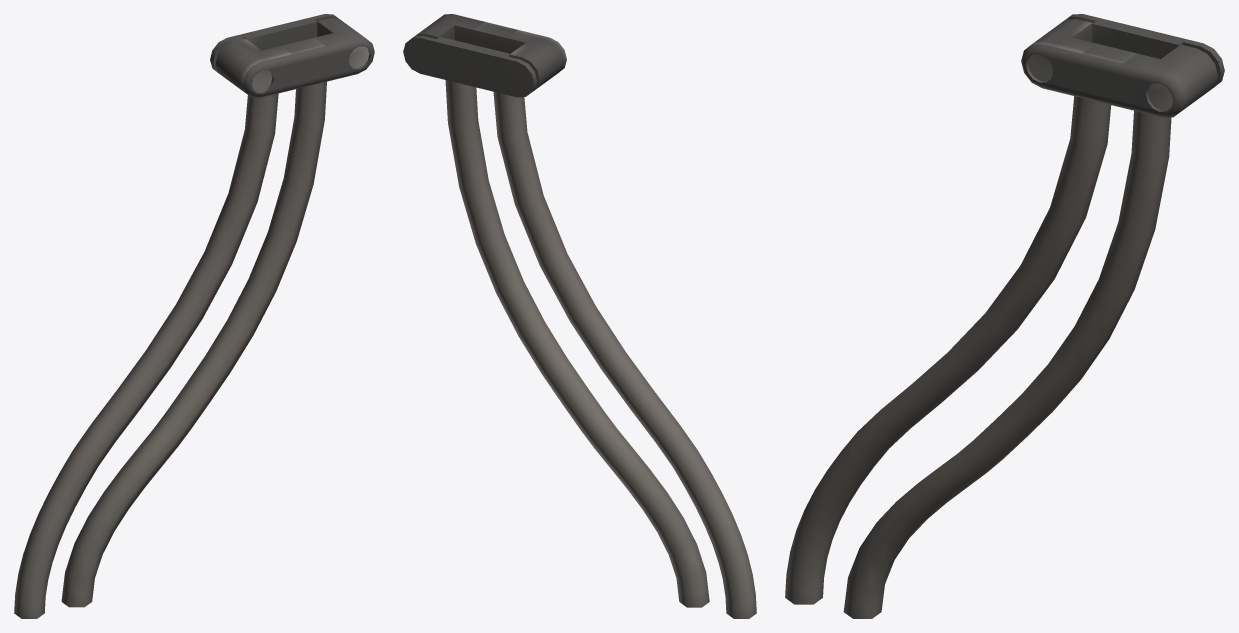
Rendered from wall-cable-bend--9.gltf.
3 renders of one model, left to right at view 1: azimuth 30°, elevation 25°; view 2: azimuth 150°, elevation 25°; view 3: azimuth 330°, elevation 25°, orthographic. The views are drawn at different scales.
Parts seen in each view (by area): view 1: cable_double_scurve; view 2: cable_double_scurve; view 3: cable_double_scurve.
Boxes of the visible parts, x1,y1,x2,y2 form: cable_double_scurve: (14, 14, 374, 618); cable_double_scurve: (403, 14, 756, 618); cable_double_scurve: (785, 14, 1224, 618).
Bounding box in the file's own units: 0.1427 × 0.2073 × 0.0259.
Materials: 1 (1 with a texture image).
